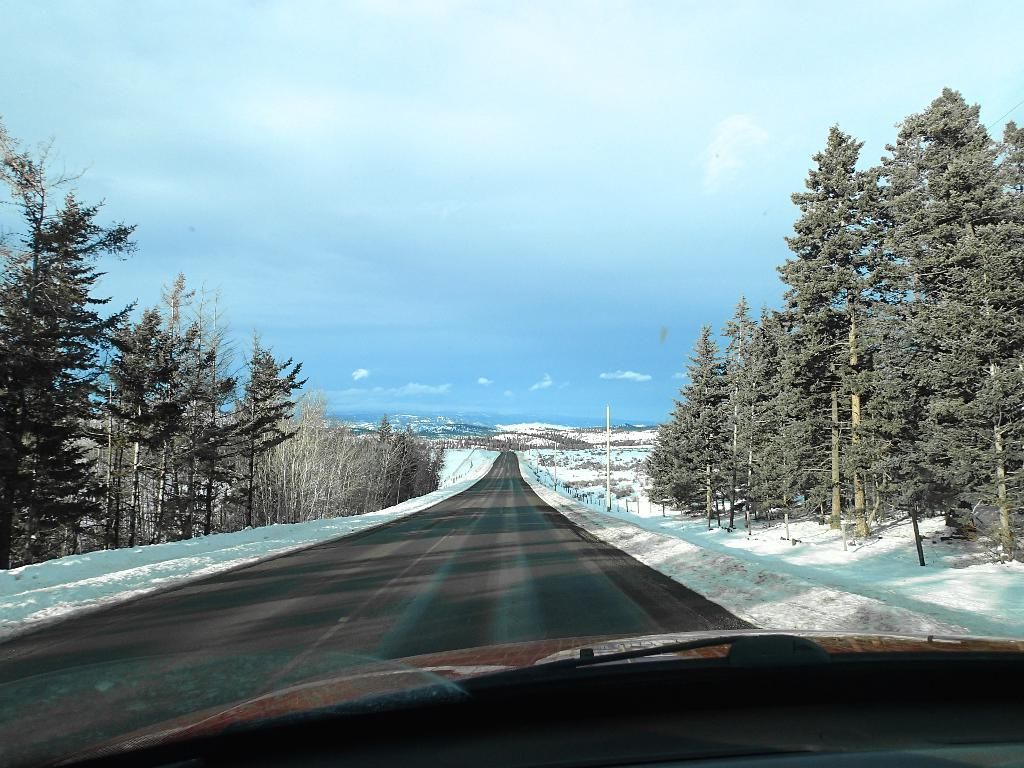Tree: (878, 84, 1023, 556), (8, 141, 129, 551), (773, 124, 868, 530), (89, 309, 177, 558), (224, 334, 310, 524), (778, 297, 851, 520), (191, 295, 252, 536), (149, 268, 197, 542), (745, 298, 792, 522), (678, 323, 725, 527), (719, 306, 762, 527), (350, 412, 440, 510), (284, 387, 342, 520), (667, 404, 695, 510), (643, 423, 672, 515)
